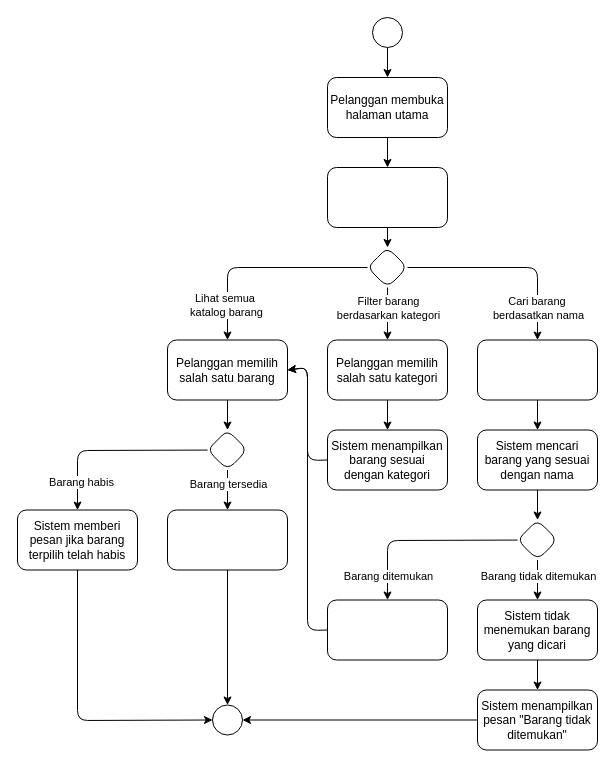
This 615x768 diagram has some shape labels left out. Here are the shapes that lost their labels. From the top down, the centre of each, then its label:
At (x=387, y=197): "Sistem menampilkan seluruh daftar barang yang tersedia".
At (x=537, y=369): "Pelanggan mengetikkan nama barang di pencarian".
At (x=227, y=539): "Sistem menampilkan halaman detail barang".
At (x=387, y=629): "Sistem menampilkan daftar barang yang sesuai dengan nama".
